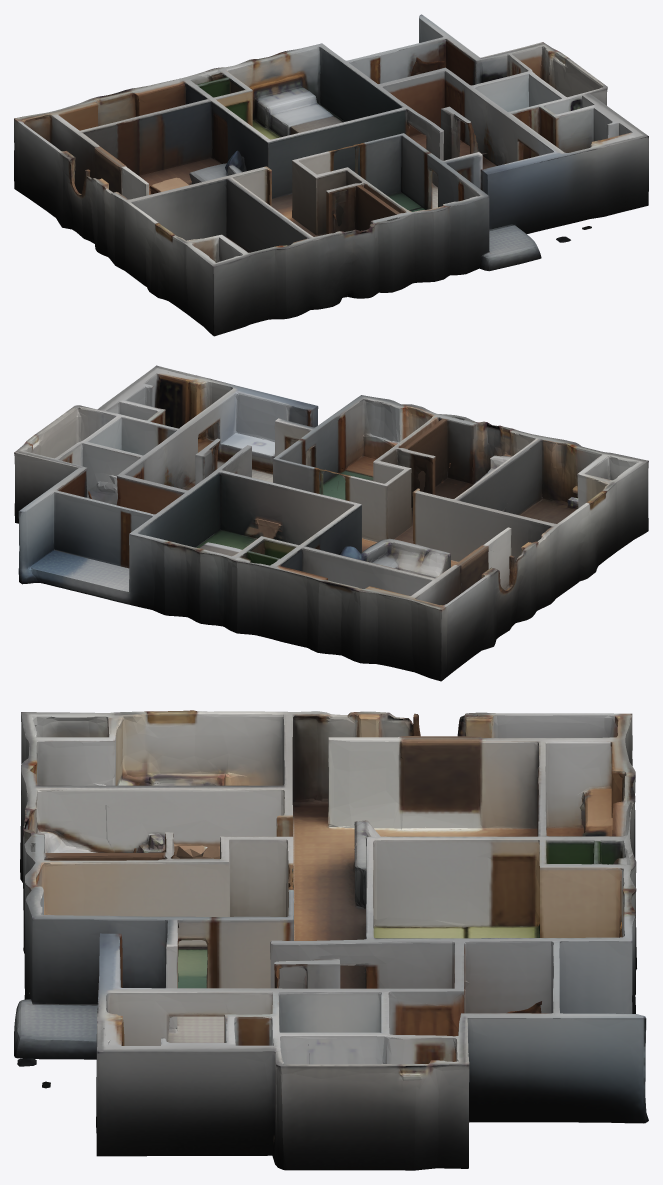
The picture shows the model from 3 angles, top to bottom: view 1: azimuth 30°, elevation 25°; view 2: azimuth 150°, elevation 25°; view 3: azimuth 270°, elevation 25°; orthographic projection. The views are drawn at different scales.
Parts seen in each view (by area): view 1: world; view 2: world; view 3: world.
Part boxes in pixels (x1,y1,x2,y2): world: (14, 14, 648, 336); world: (14, 365, 648, 681); world: (14, 710, 648, 1170).
Bounding box in the file's own units: 0.9991 × 0.1443 × 0.7521.
Materials: 1 (1 with a texture image).
